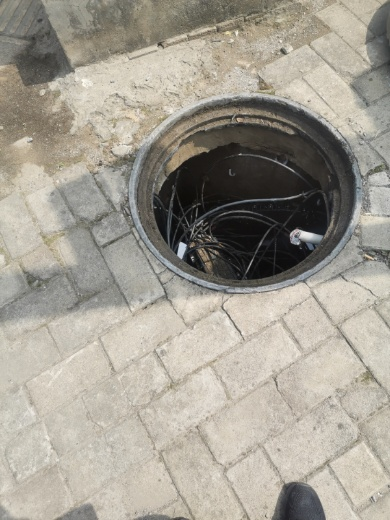lose: (129, 92, 365, 295)
